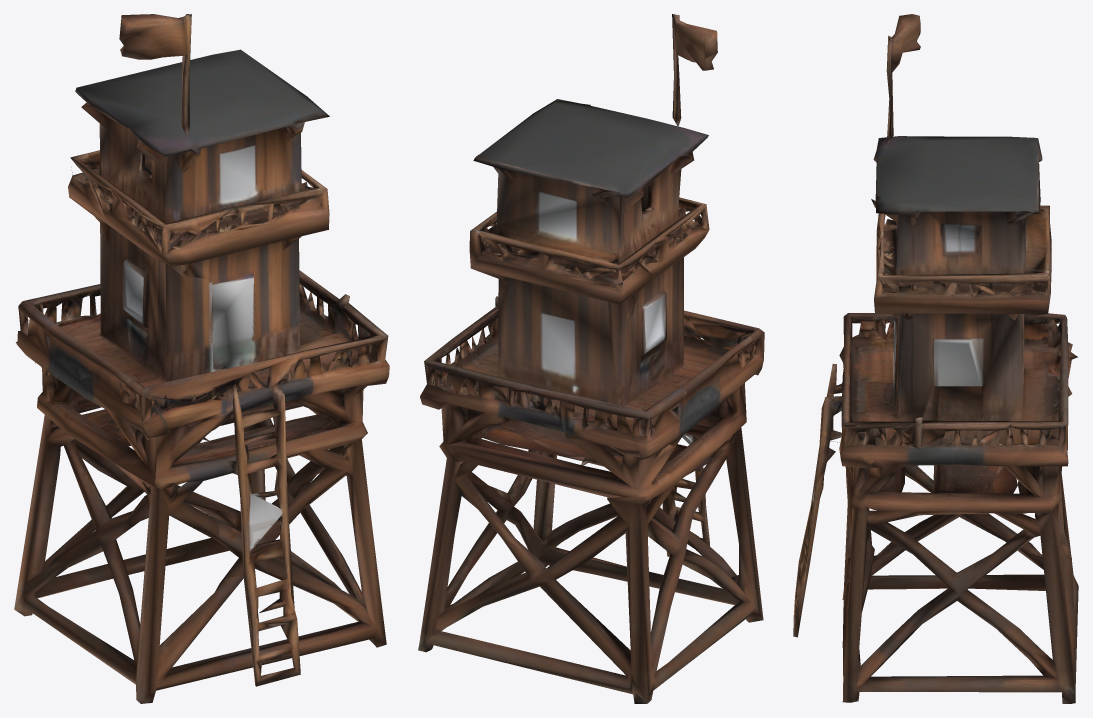
The model's file is Watchtower.glb.
3 renders of one model, left to right at view 1: azimuth 30°, elevation 25°; view 2: azimuth 150°, elevation 25°; view 3: azimuth 270°, elevation 25°, orthographic. The views are drawn at different scales.
Bounding box in the file's own units: 0.8277 × 2 × 0.8762.
Materials: 1 (1 with a texture image).
